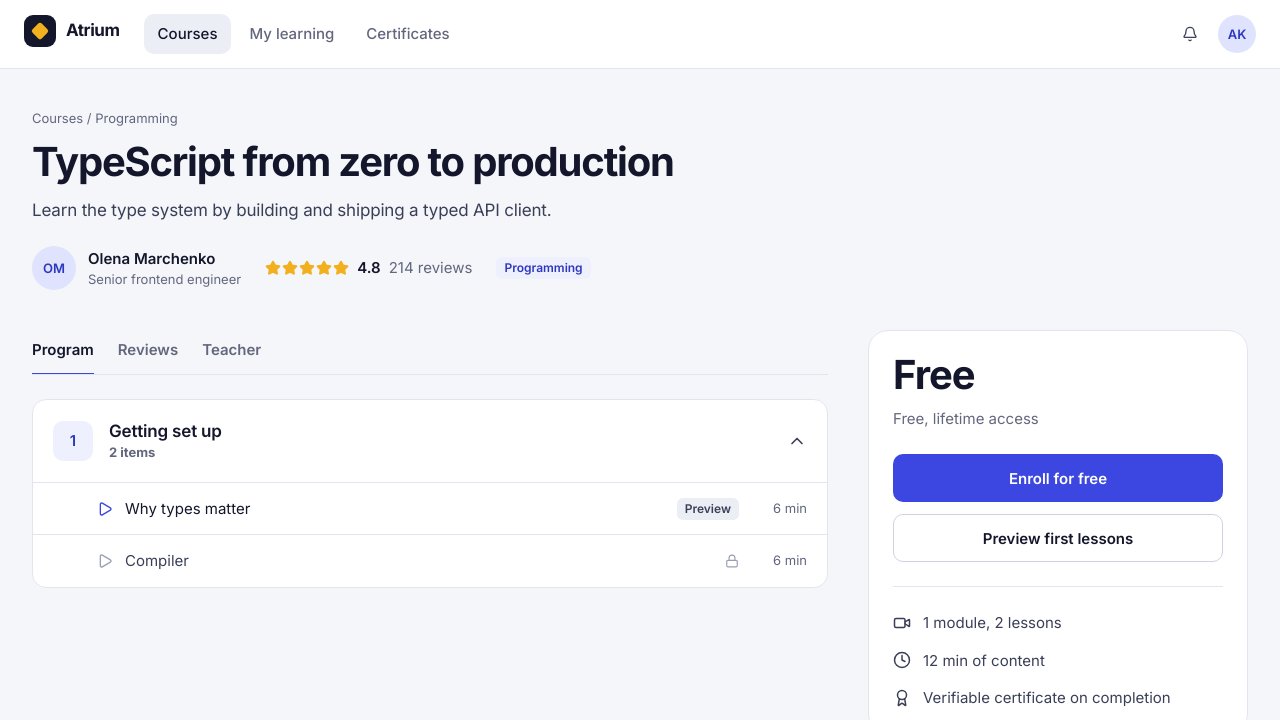
enrolling › enrolls in a free course and switches to continue learning
The image size is (1280, 720).
Click the button "Enroll for free": (1058, 478) x1=893 y1=454 x2=1223 y2=502
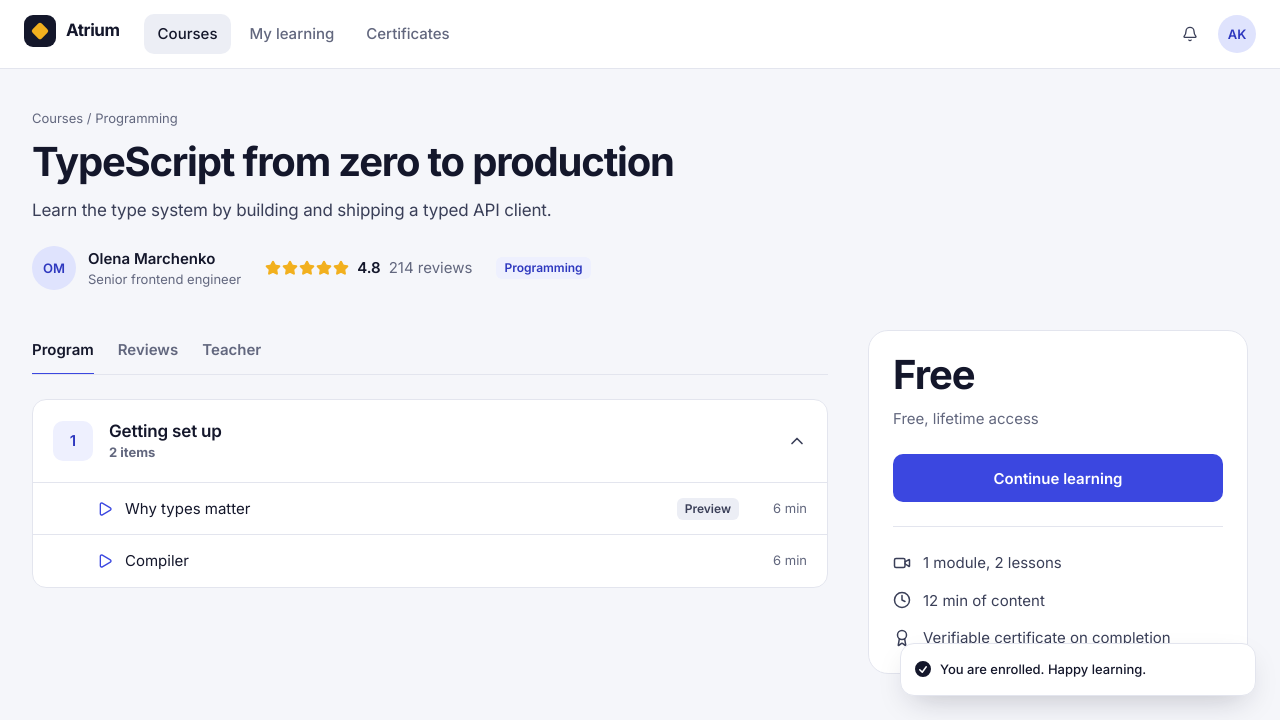
expect the link "Continue learning" is shown: met, box x1=893 y1=454 x2=1223 y2=502
expect the button "Enroll for free" is gone: met
